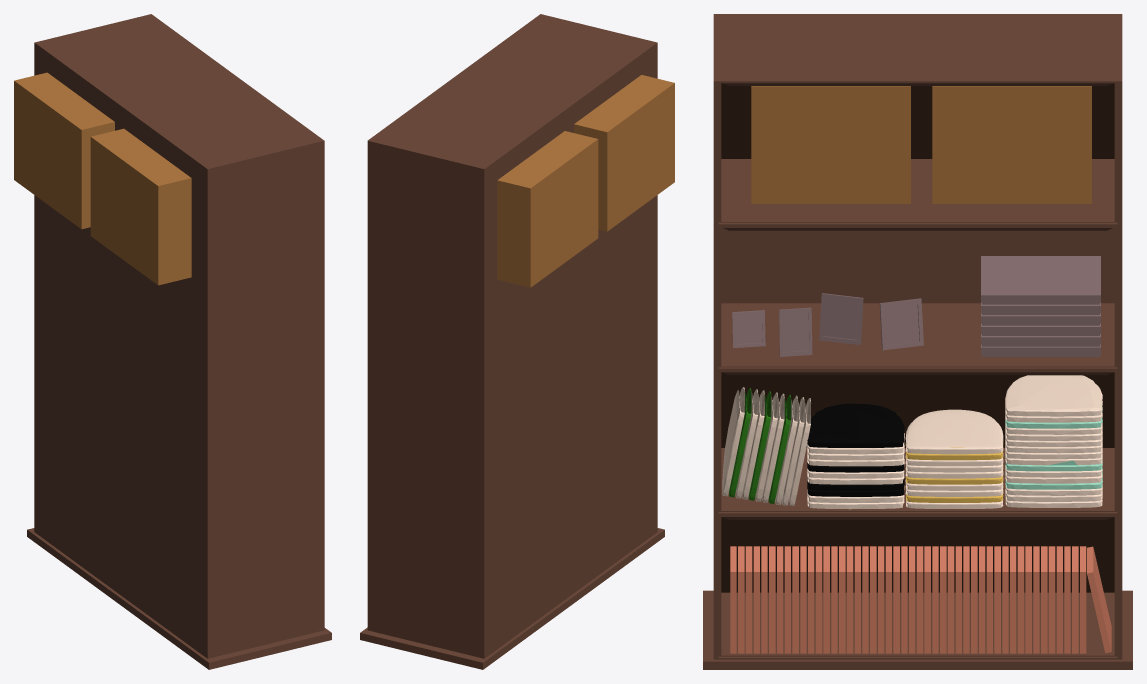
File: Bedroom_Kast_GGJ.fbx
3 views of the same model, side by side, from view 1: azimuth 30°, elevation 25°; view 2: azimuth 150°, elevation 25°; view 3: azimuth 270°, elevation 25° (orthographic). The views are drawn at different scales.
Visible parts, largest first — view 1: Cube.003; view 2: Cube.003; view 3: Cube.003.
Part boxes in pixels (left/top/right/bottom): Cube.003: left=14, top=14, right=331, bottom=669; Cube.003: left=360, top=14, right=674, bottom=669; Cube.003: left=703, top=14, right=1132, bottom=669.
Size of the model in its own units: 262 by 812 by 539.
